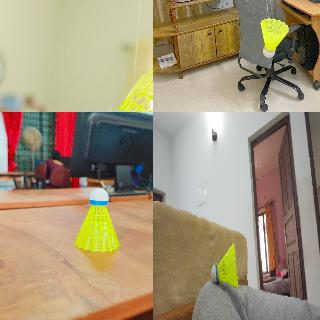shuttlecock: (90, 61, 152, 111), (74, 187, 118, 251), (211, 242, 237, 286), (260, 18, 288, 58)
